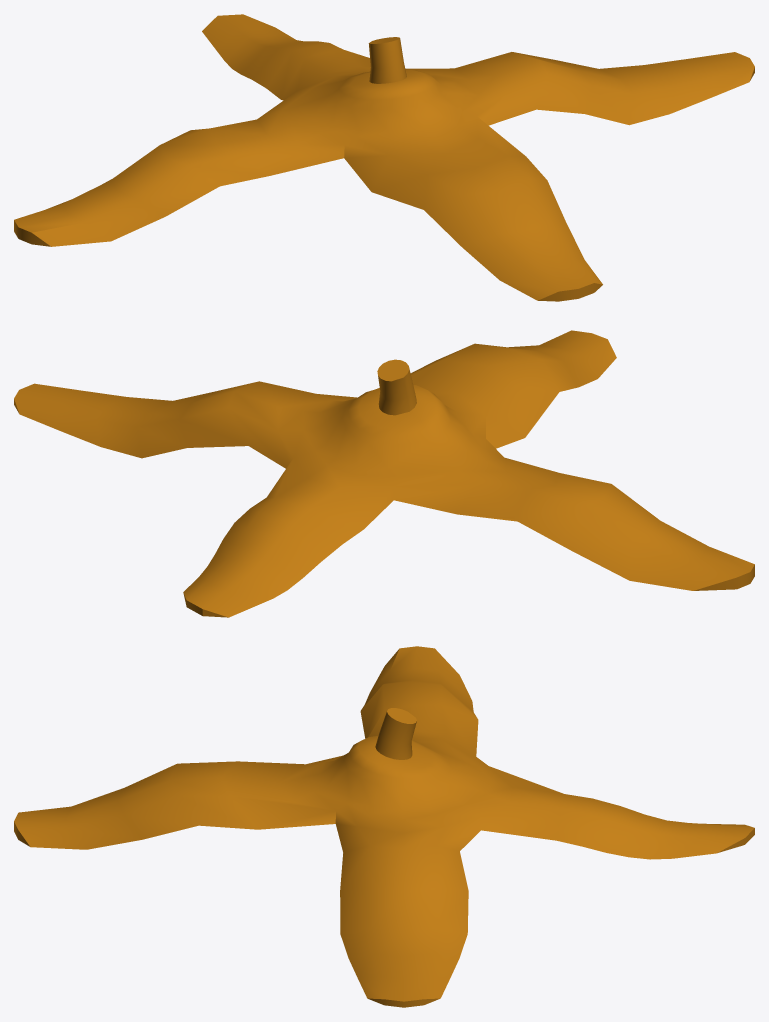
Rendered from Banana_02.fbx.
3 views of the same model, one above another, from view 1: azimuth 30°, elevation 25°; view 2: azimuth 150°, elevation 25°; view 3: azimuth 270°, elevation 25° (orthographic). The views are drawn at different scales.
Parts seen in each view (by area): view 1: Banana_02; view 2: Banana_02; view 3: Banana_02.
Boxes of the visible parts, left/top/right/bottom form: Banana_02: left=14, top=14, right=754, bottom=301; Banana_02: left=14, top=330, right=754, bottom=617; Banana_02: left=14, top=646, right=754, bottom=1007.
Size of the model in its own units: 64.41 by 10.44 by 57.21.
